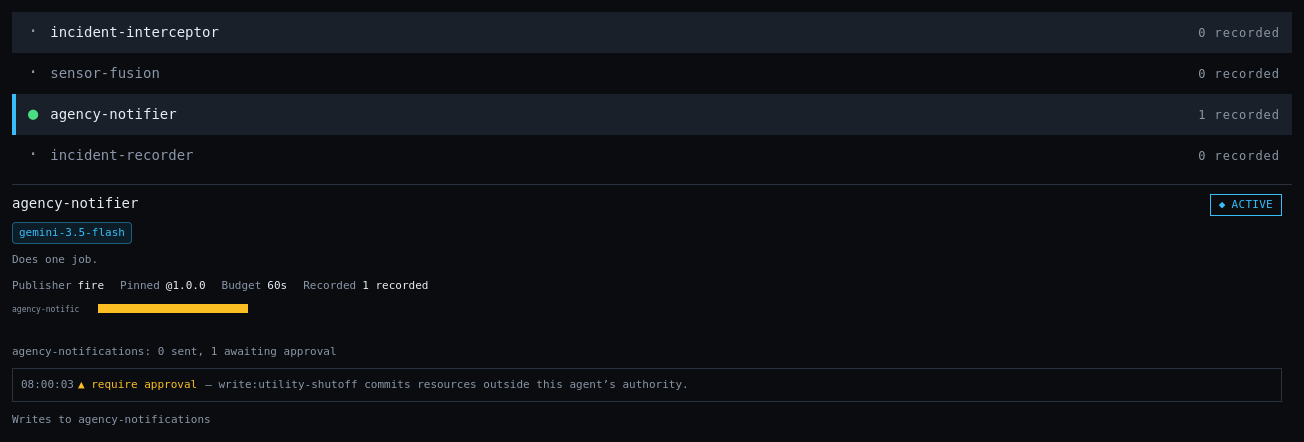
Scenario: every agent gets its own visual › shows the interceptor fanning out to the agents the intake woke
This screenshot has width=1304, height=442.
Click the button "· incident-interceptor 0 recorded" at (135, 32), box [12,12,1292,53]
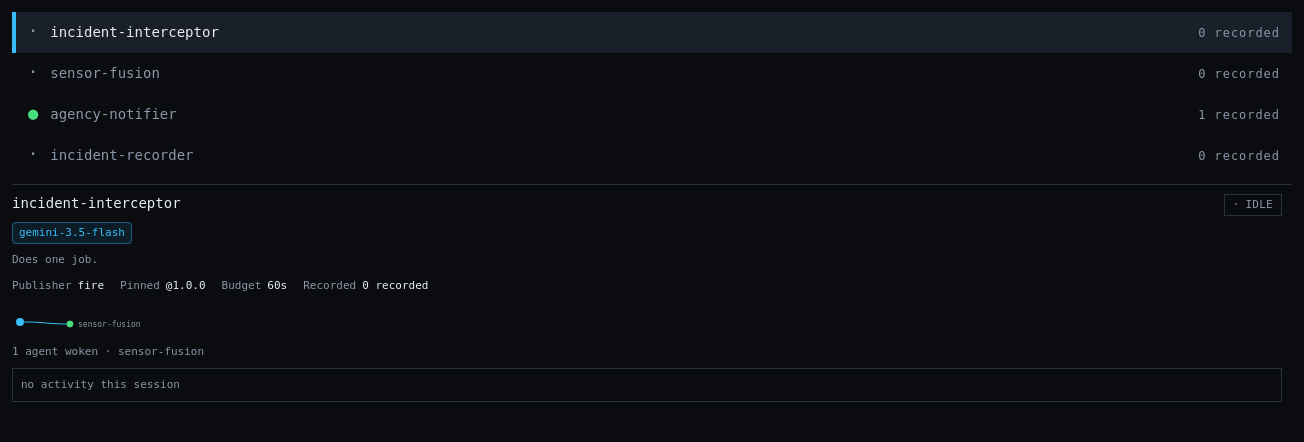
Now the element with test id "fleet-visual-incident-interceptor" shows "1 agent woken", box [12,345,204,358]
Now the element with test id "fleet-visual-incident-interceptor" shows "sensor-fusion", box [78,320,141,329]
